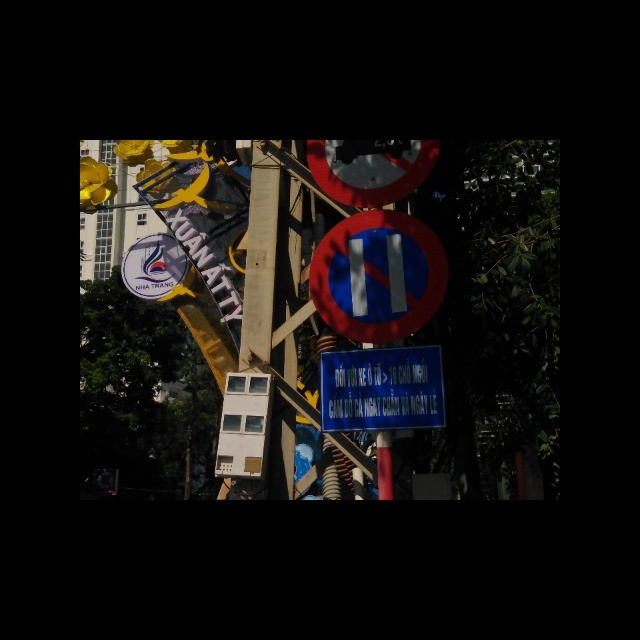Cấm xe tải: (305, 140, 438, 206)
Cấm đỗ xe ngày chẵn: (301, 214, 448, 344)
